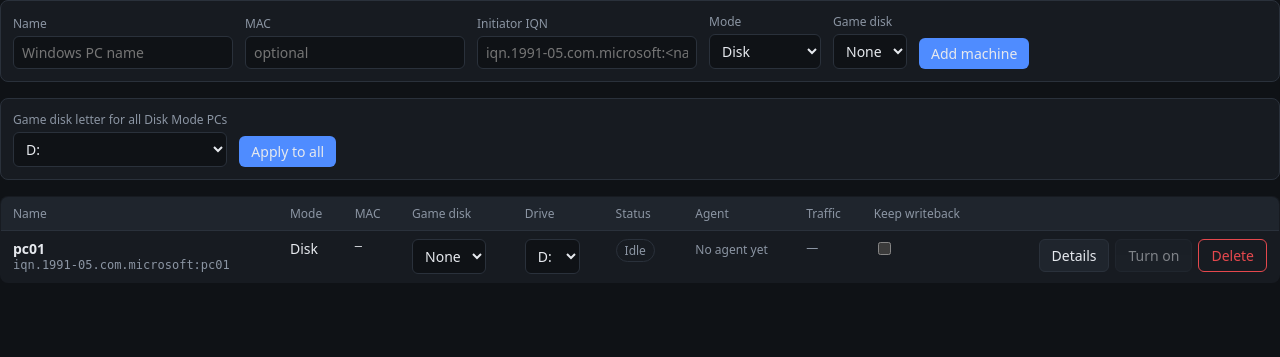
Test case: MachinesPage › shows the backend error when an action fails
Select "cs2" in the dropdown named "Game disk for pc01" at x=449, y=256, box [412, 239, 486, 274]
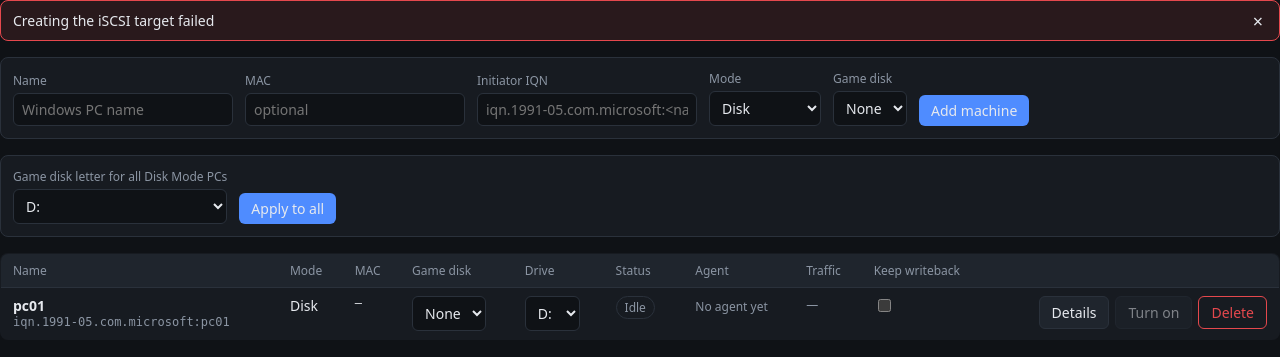
Now the message shows "Creating the iSCSI target failed", box [13, 11, 214, 30]
